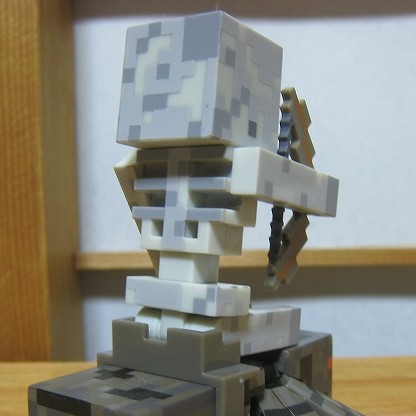skeleton: (110, 7, 297, 264)
